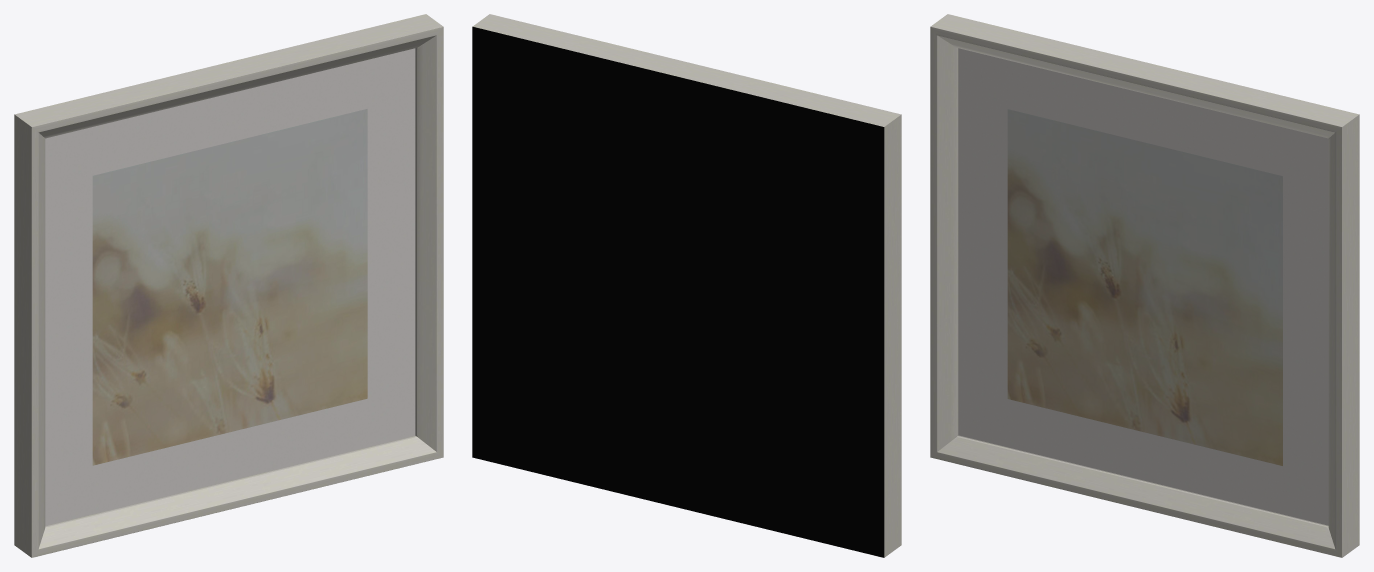
File: obraz.glb
The picture shows the model from 3 angles, left to right: view 1: azimuth 30°, elevation 25°; view 2: azimuth 150°, elevation 25°; view 3: azimuth 330°, elevation 25°; orthographic projection.
Visible parts, largest first — view 1: 3_media\gen\BZO\a\x\i\z_qttk-ud2w1tfxxmmq__r2__.bzo_4, 2_media\gen\BZO\a\x\i\z_qttk-ud2w1tfxxmmq__r2__.bzo_3, 4_media\gen\BZO\a\x\i\z_qttk-ud2w1tfxxmmq__r2__.bzo_5, 0_media\gen\BZO\a\x\i\z_qttk-ud2w1tfxxmmq__r2__.bzo_1; view 2: 1_media\gen\BZO\a\x\i\z_qttk-ud2w1tfxxmmq__r2__.bzo_2, 0_media\gen\BZO\a\x\i\z_qttk-ud2w1tfxxmmq__r2__.bzo_1; view 3: 3_media\gen\BZO\a\x\i\z_qttk-ud2w1tfxxmmq__r2__.bzo_4, 2_media\gen\BZO\a\x\i\z_qttk-ud2w1tfxxmmq__r2__.bzo_3, 4_media\gen\BZO\a\x\i\z_qttk-ud2w1tfxxmmq__r2__.bzo_5, 0_media\gen\BZO\a\x\i\z_qttk-ud2w1tfxxmmq__r2__.bzo_1.
Part boxes in pixels (<box>): 3_media\gen\BZO\a\x\i\z_qttk-ud2w1tfxxmmq__r2__.bzo_4: <box>45,48,415,525</box>; 2_media\gen\BZO\a\x\i\z_qttk-ud2w1tfxxmmq__r2__.bzo_3: <box>92,109,367,465</box>; 4_media\gen\BZO\a\x\i\z_qttk-ud2w1tfxxmmq__r2__.bzo_5: <box>45,48,415,525</box>; 0_media\gen\BZO\a\x\i\z_qttk-ud2w1tfxxmmq__r2__.bzo_1: <box>14,14,443,557</box>; 1_media\gen\BZO\a\x\i\z_qttk-ud2w1tfxxmmq__r2__.bzo_2: <box>472,26,884,557</box>; 0_media\gen\BZO\a\x\i\z_qttk-ud2w1tfxxmmq__r2__.bzo_1: <box>473,14,901,557</box>; 3_media\gen\BZO\a\x\i\z_qttk-ud2w1tfxxmmq__r2__.bzo_4: <box>958,48,1328,525</box>; 2_media\gen\BZO\a\x\i\z_qttk-ud2w1tfxxmmq__r2__.bzo_3: <box>1007,109,1282,465</box>; 4_media\gen\BZO\a\x\i\z_qttk-ud2w1tfxxmmq__r2__.bzo_5: <box>958,48,1328,525</box>; 0_media\gen\BZO\a\x\i\z_qttk-ud2w1tfxxmmq__r2__.bzo_1: <box>930,14,1359,557</box>.
Bounding box in the file's own units: 0.6096 × 0.6096 × 0.0445.
5 materials, 5 textured.
